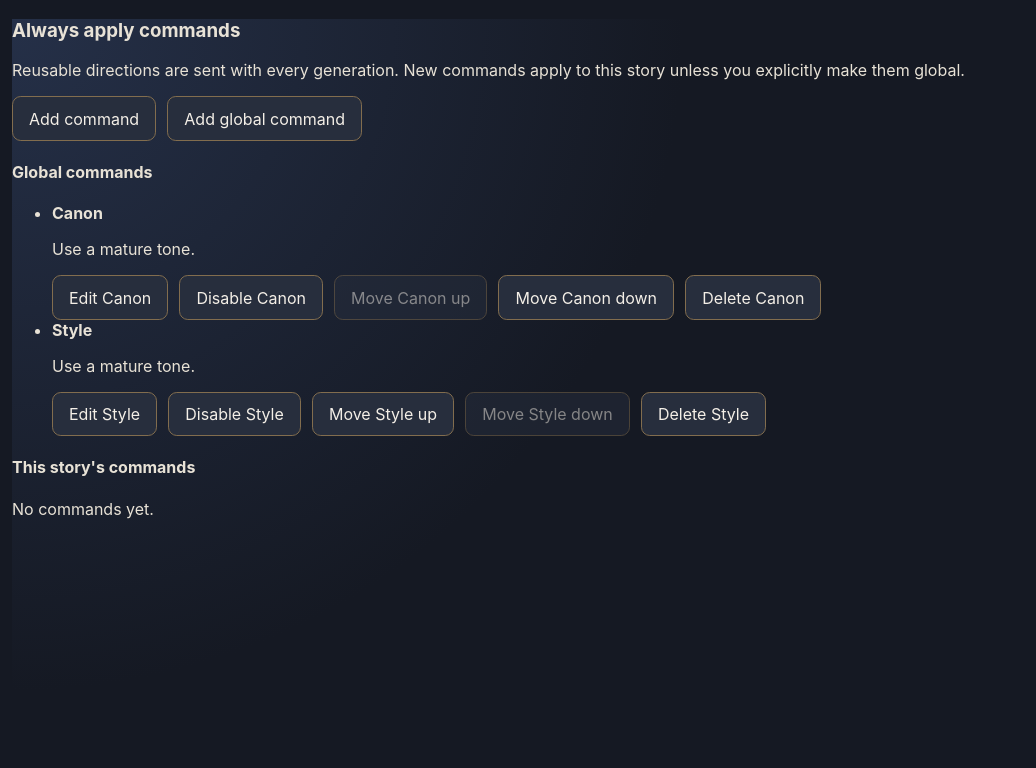
Test: CommandManager › does not retry reload after a successful reorder when normal refresh fails
The image size is (1036, 768).
Click the button "Move Style up".
click(383, 414)  # box x1=312 y1=392 x2=454 y2=436
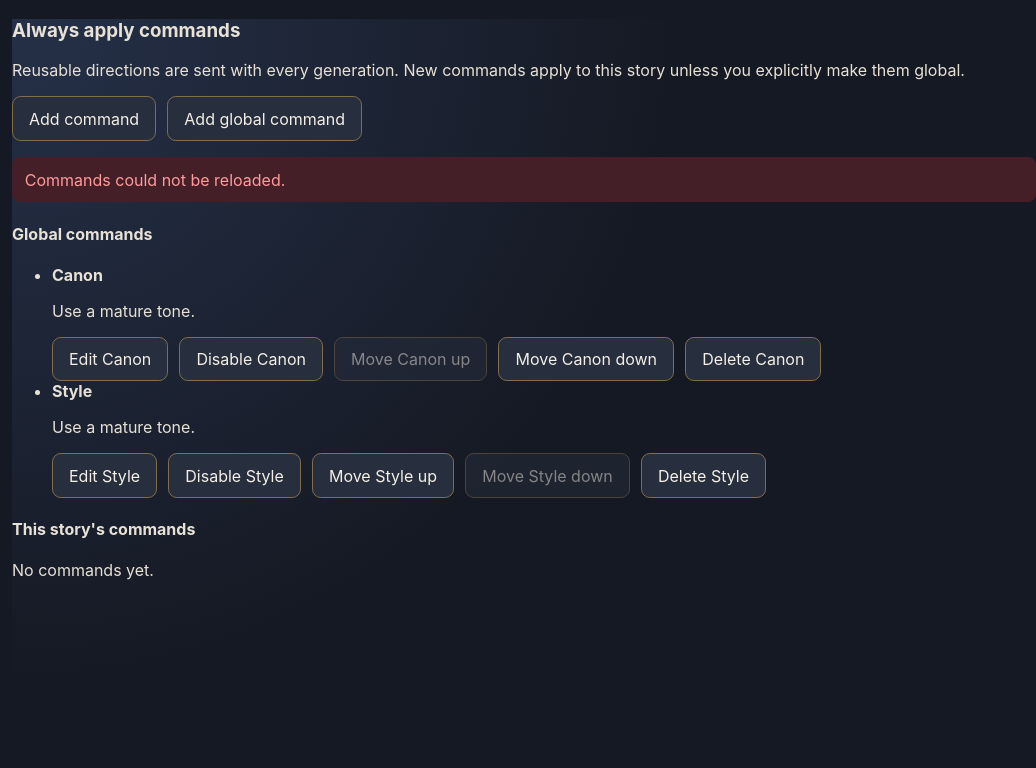
Expected: the message reads "Commands could not be reloaded.", x1=25 y1=170 x2=285 y2=190
